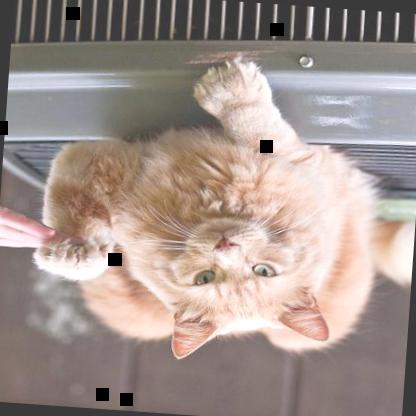cat: (30, 46, 415, 379)
